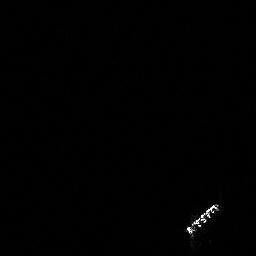ship: (181, 199, 222, 238)
